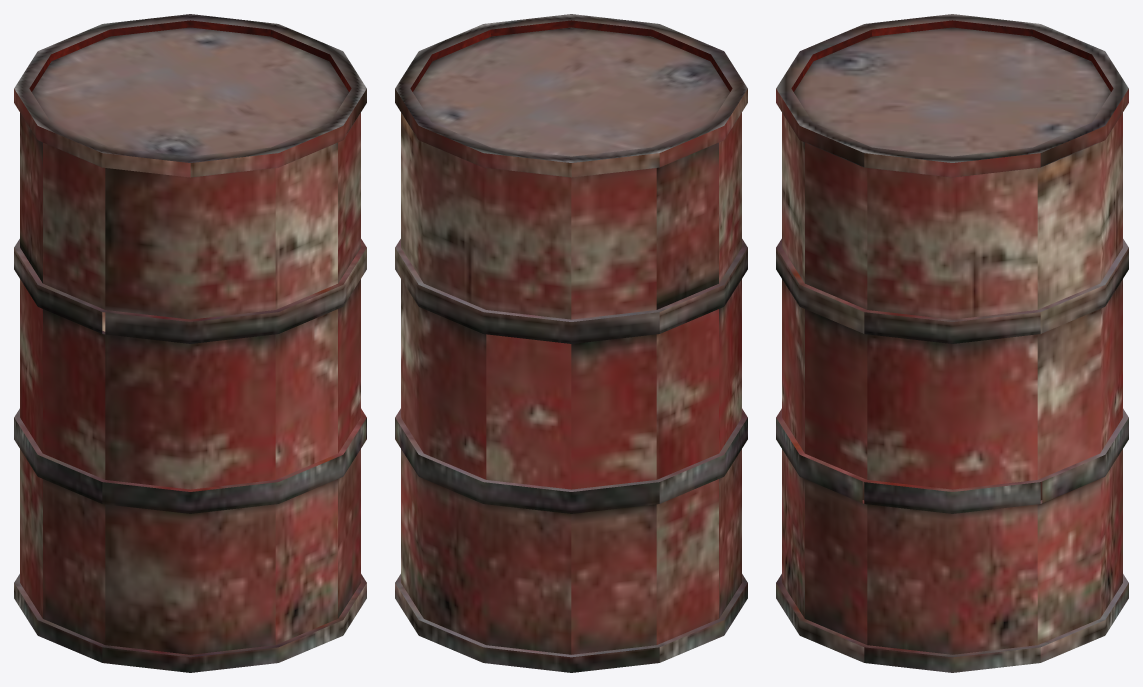
Rendered from modular-containers-and-barrells-pack-game-ready-cylinder-328.glb.
3 renders of one model, left to right at view 1: azimuth 30°, elevation 25°; view 2: azimuth 150°, elevation 25°; view 3: azimuth 270°, elevation 25°, orthographic.
Visible parts, largest first — view 1: Cylinder_328; view 2: Cylinder_328; view 3: Cylinder_328.
Boxes of the visible parts, left/top/right/bottom form: Cylinder_328: left=14, top=14, right=366, bottom=672; Cylinder_328: left=395, top=14, right=747, bottom=672; Cylinder_328: left=776, top=14, right=1128, bottom=672.
Size of the model in its own units: 0.8278 by 1.32 by 0.8278.
Materials: 1 (1 with a texture image).
